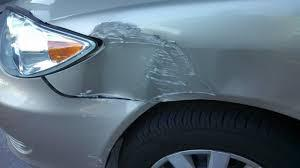fender-dent: (73, 15, 250, 120)
